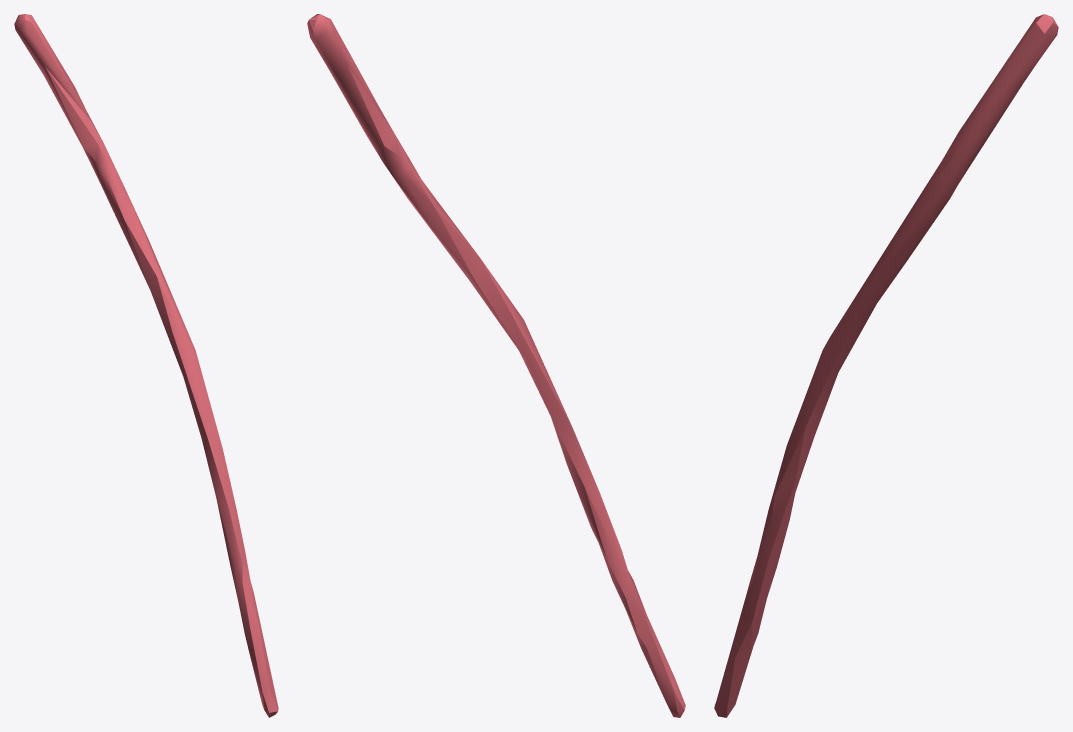
File: fma14747_fj3520.glb
The picture shows the model from 3 angles, left to right: view 1: azimuth 90°, elevation 25°; view 2: azimuth 150°, elevation 25°; view 3: azimuth 270°, elevation 25°; orthographic projection. The views are drawn at different scales.
Visible parts, largest first — view 1: FMA14747_FJ3520; view 2: FMA14747_FJ3520; view 3: FMA14747_FJ3520.
Part boxes in pixels (x1,y1,x2,y2): FMA14747_FJ3520: (14,14,278,717); FMA14747_FJ3520: (307,14,685,717); FMA14747_FJ3520: (714,14,1058,717).
Bounding box in the file's own units: 0.013 × 0.0416 × 0.016.
